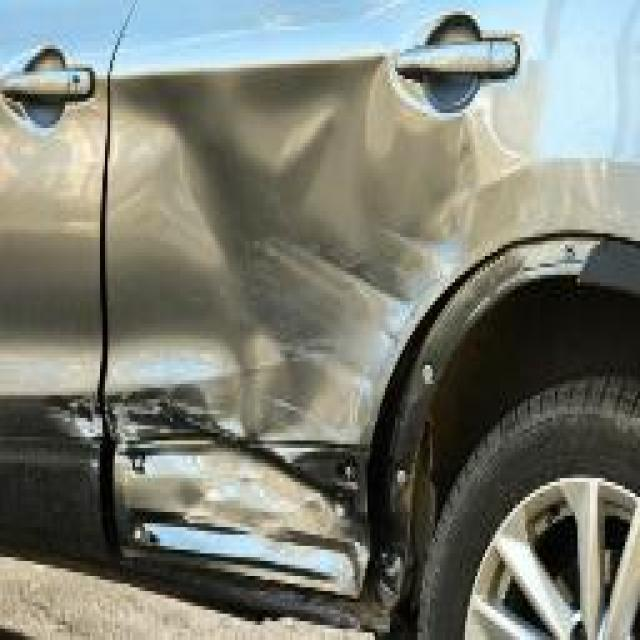Door: (118, 120, 518, 614)
